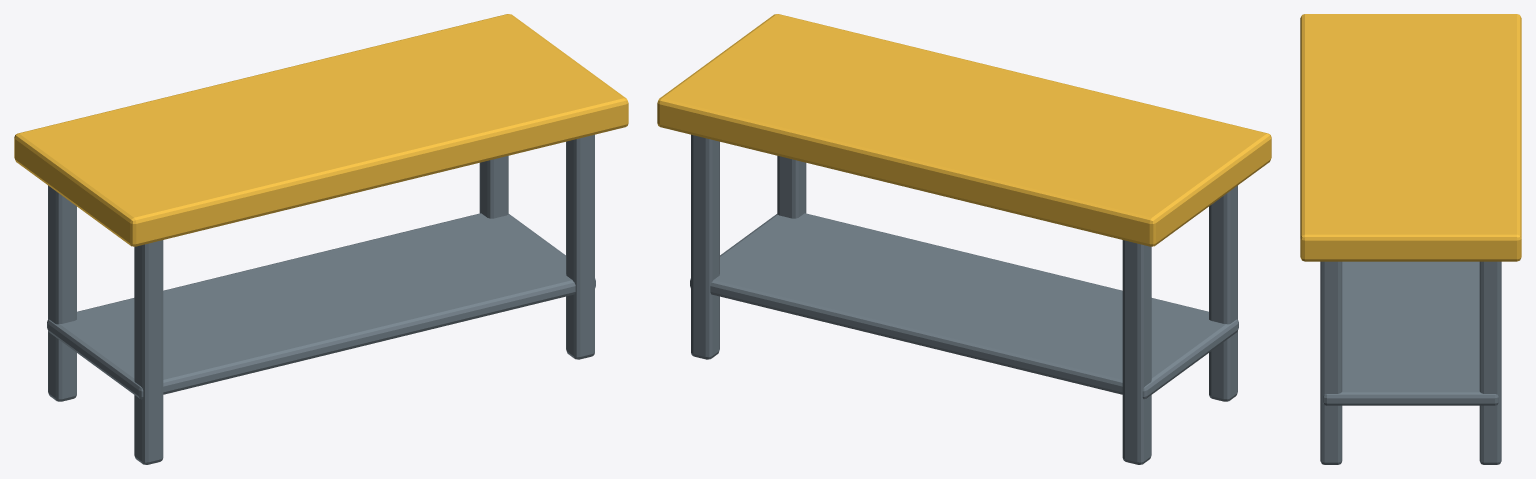
File: Table.fbx
3 views of the same model, side by side, from view 1: azimuth 30°, elevation 25°; view 2: azimuth 150°, elevation 25°; view 3: azimuth 270°, elevation 25° (orthographic). The views are drawn at different scales.
Visible parts, largest first — view 1: WorkbenchTop, Shelf, Leg, Leg.002, Leg.001, Leg.003; view 2: WorkbenchTop, Shelf, Leg.001, Leg.003, Leg, Leg.002; view 3: WorkbenchTop, Shelf, Leg.002, Leg.003.
Part boxes in pixels (x1=…): WorkbenchTop: x1=14, y1=14, x2=628, y2=246; Shelf: x1=47, y1=213, x2=595, y2=399; Leg: x1=134, y1=240, x2=163, y2=464; Leg.002: x1=566, y1=134, x2=594, y2=359; Leg.001: x1=48, y1=185, x2=76, y2=401; Leg.003: x1=479, y1=156, x2=508, y2=218; WorkbenchTop: x1=657, y1=14, x2=1271, y2=246; Shelf: x1=690, y1=213, x2=1238, y2=399; Leg.001: x1=1122, y1=240, x2=1151, y2=464; Leg.003: x1=691, y1=134, x2=719, y2=359; Leg: x1=1209, y1=185, x2=1237, y2=401; Leg.002: x1=777, y1=156, x2=806, y2=218; WorkbenchTop: x1=1300, y1=14, x2=1521, y2=261; Shelf: x1=1323, y1=261, x2=1498, y2=405; Leg.002: x1=1320, y1=261, x2=1342, y2=464; Leg.003: x1=1479, y1=261, x2=1501, y2=464.
Bounding box in the file's own units: 180 × 90 × 75.
